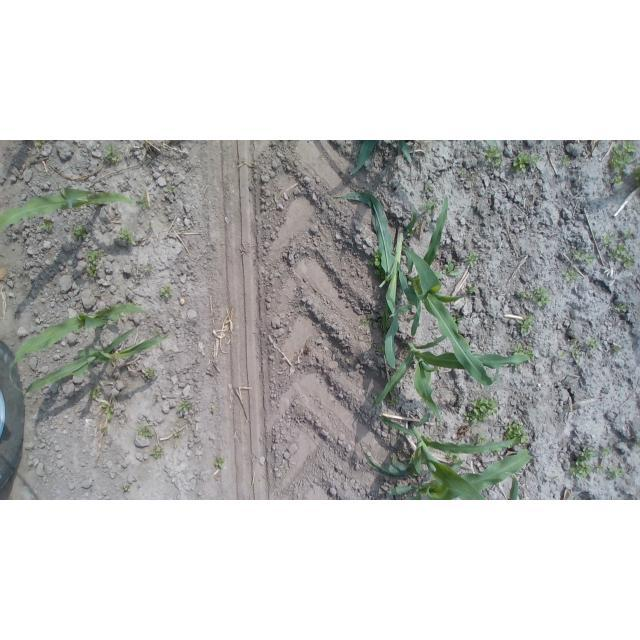Maize: (389, 195, 499, 394), (330, 190, 439, 370), (369, 334, 531, 423), (8, 312, 170, 397), (366, 416, 519, 500), (25, 327, 171, 393), (383, 444, 529, 500), (0, 184, 140, 236), (347, 140, 416, 180)
Weeds: (465, 396, 500, 425), (608, 140, 637, 174), (568, 446, 596, 479), (502, 418, 530, 448), (608, 241, 635, 268), (518, 286, 552, 307), (511, 151, 540, 174), (84, 250, 102, 279), (484, 142, 503, 168), (101, 144, 123, 165), (517, 313, 536, 336), (116, 227, 137, 246), (507, 343, 534, 357), (371, 249, 385, 276), (572, 249, 595, 264), (446, 451, 463, 470), (421, 198, 439, 215), (442, 260, 459, 278), (464, 250, 480, 267), (175, 399, 193, 414), (569, 338, 581, 360), (102, 402, 115, 422), (562, 268, 579, 283), (72, 225, 88, 240), (608, 465, 625, 479), (138, 425, 155, 439), (601, 233, 615, 248), (40, 217, 55, 231), (160, 284, 173, 300), (89, 386, 103, 400), (630, 163, 638, 186), (150, 446, 164, 459), (452, 312, 465, 325), (145, 365, 157, 379), (214, 455, 226, 469), (360, 314, 373, 326), (616, 302, 629, 314), (612, 174, 625, 186), (475, 432, 488, 444), (138, 197, 149, 211), (386, 395, 398, 407), (622, 230, 635, 240), (602, 445, 612, 457), (586, 338, 598, 348), (389, 454, 399, 466), (491, 448, 504, 457), (595, 463, 606, 473), (467, 284, 477, 295), (562, 156, 572, 167), (509, 363, 520, 372), (423, 183, 432, 194), (613, 345, 623, 354), (378, 345, 387, 355), (407, 228, 416, 237), (153, 329, 163, 337), (146, 221, 153, 232), (144, 263, 153, 271), (459, 168, 468, 176), (559, 351, 568, 359), (166, 185, 174, 194), (36, 141, 45, 148), (172, 431, 180, 438), (101, 426, 108, 434), (124, 485, 131, 491), (210, 406, 216, 413), (553, 476, 559, 482)
